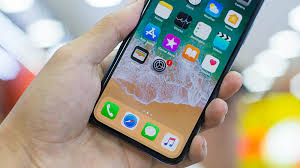iphone: (86, 1, 264, 163)
iphone10: (88, 1, 266, 163)
